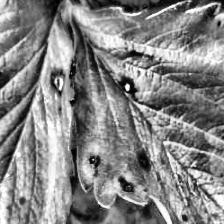Leaf Spot: (67, 0, 224, 224), (0, 0, 76, 224)
